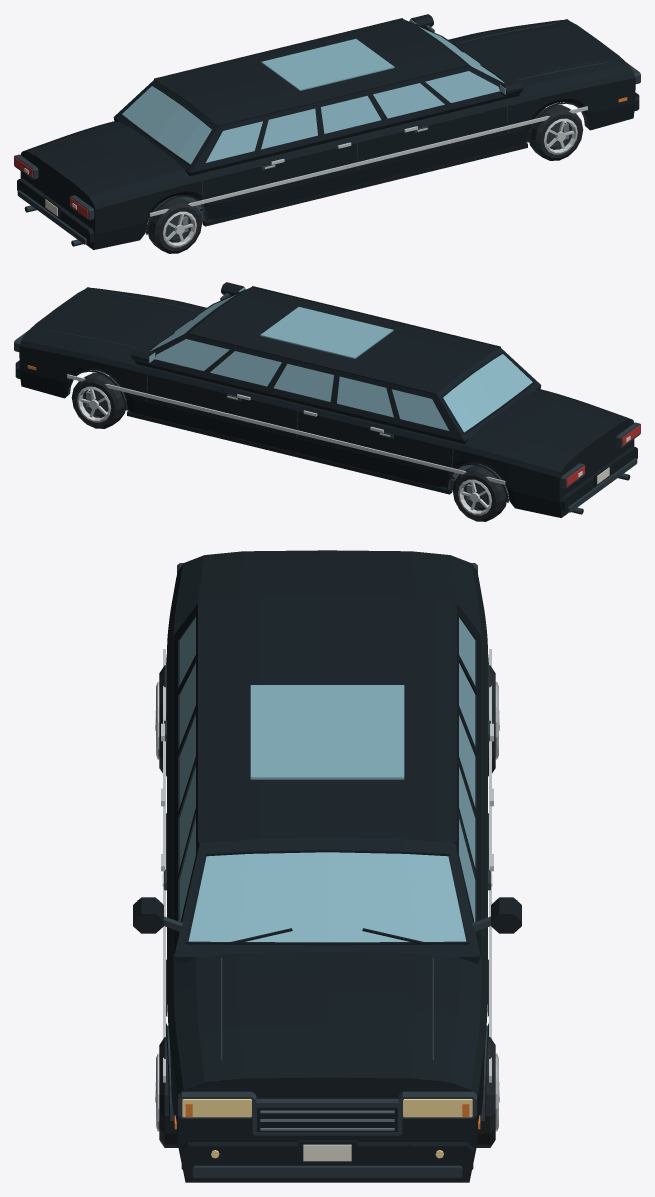
The model's file is b03_stretch_limousine.glb.
3 views of the same model, one above another, from view 1: azimuth 30°, elevation 25°; view 2: azimuth 150°, elevation 25°; view 3: azimuth 270°, elevation 25° (orthographic). The views are drawn at different scales.
Parts seen in each view (by area): view 1: b03_stretch_limousine; view 2: b03_stretch_limousine; view 3: b03_stretch_limousine.
Part boxes in pixels (bbox=[...]): b03_stretch_limousine: bbox=[14, 14, 640, 253]; b03_stretch_limousine: bbox=[14, 282, 640, 521]; b03_stretch_limousine: bbox=[133, 550, 521, 1182].
Size of the model in its own units: 7.93 by 1.54 by 2.4.
